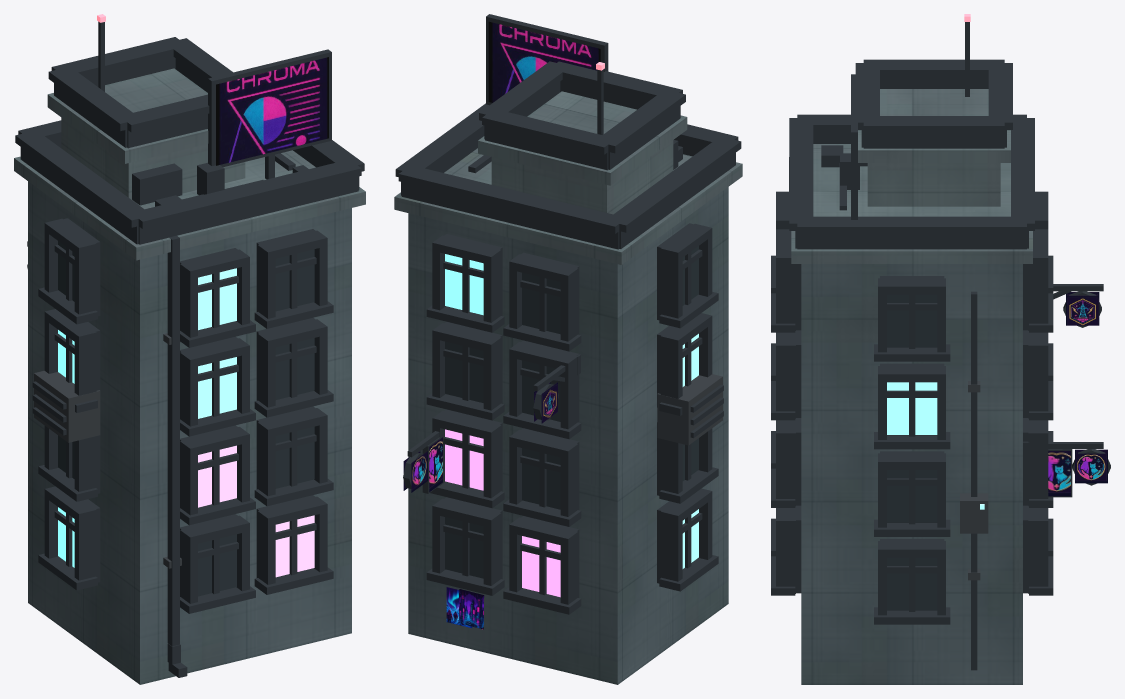
File: decor-filler-d.glb
The picture shows the model from 3 angles, left to right: view 1: azimuth 30°, elevation 25°; view 2: azimuth 150°, elevation 25°; view 3: azimuth 270°, elevation 25°; orthographic projection.
Visible parts, largest first — view 1: DecorFillerD; view 2: DecorFillerD; view 3: DecorFillerD.
Part boxes in pixels (x1,y1,x2,y2): DecorFillerD: [14, 14, 365, 684]; DecorFillerD: [394, 14, 742, 684]; DecorFillerD: [771, 14, 1110, 684].
Bounding box in the file's own units: 0.777 × 1.61 × 0.8432.
12 materials, 6 textured.
